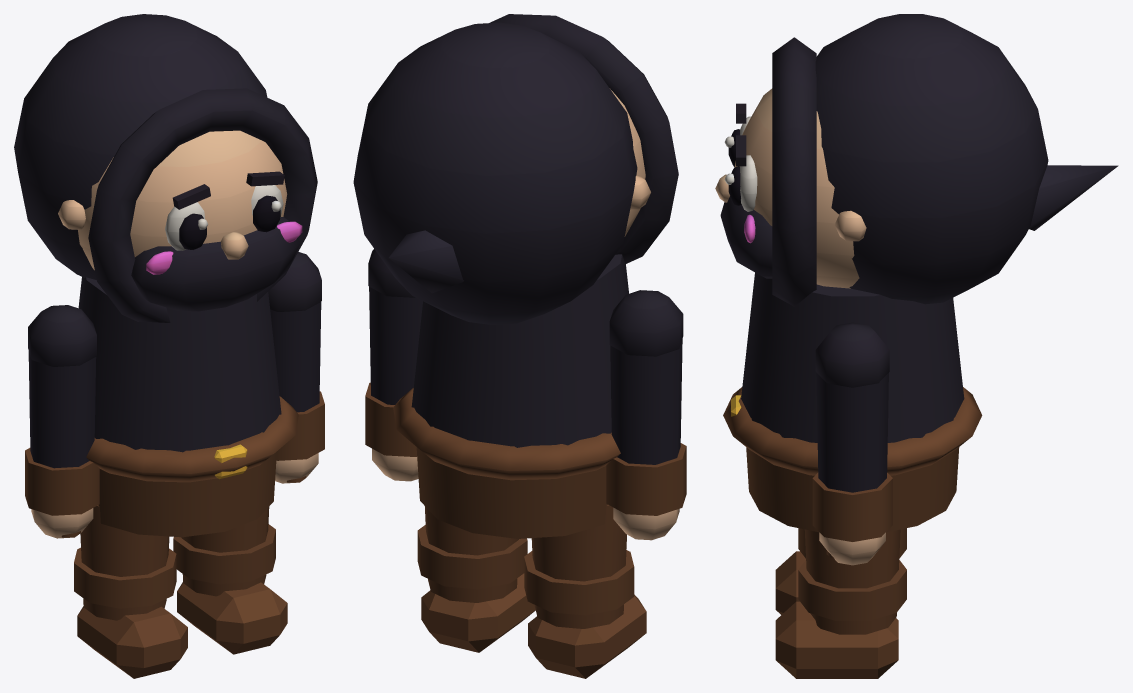
Rendered from hero_vex.glb.
3 views of the same model, side by side, from view 1: azimuth 30°, elevation 25°; view 2: azimuth 150°, elevation 25°; view 3: azimuth 270°, elevation 25° (orthographic). The views are drawn at different scales.
Parts seen in each view (by area): view 1: body_t0_palette, arml_t0_palette, legl_t0_palette, legr_t0_palette, armr_t0_palette; view 2: body_t0_palette, arml_t0_palette, legl_t0_palette, legr_t0_palette, armr_t0_palette; view 3: body_t0_palette, armr_t0_palette, legr_t0_palette, legl_t0_palette.
Part boxes in pixels (x1,y1,x2,y2): body_t0_palette: (14, 14, 317, 537); arml_t0_palette: (25, 305, 99, 538); legl_t0_palette: (74, 505, 187, 678); legr_t0_palette: (173, 507, 287, 654); armr_t0_palette: (268, 252, 324, 483); body_t0_palette: (353, 14, 678, 538); arml_t0_palette: (606, 290, 686, 540); legl_t0_palette: (524, 504, 646, 678); legr_t0_palette: (417, 506, 535, 652); armr_t0_palette: (365, 249, 422, 481); body_t0_palette: (715, 14, 1118, 532); armr_t0_palette: (812, 322, 892, 565); legr_t0_palette: (775, 529, 906, 678); legl_t0_palette: (775, 528, 906, 614).
Size of the model in its own units: 0.27 by 0.5265 by 0.3112.
